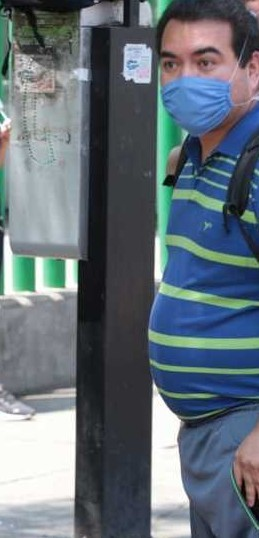with_mask: (157, 11, 259, 129)
